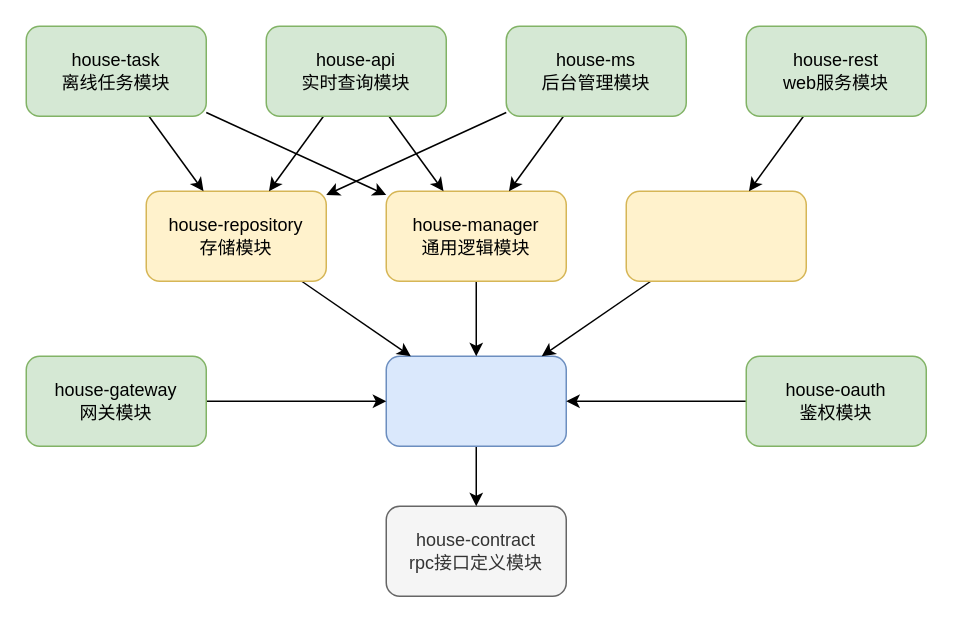
Some shapes in this 953 by 623 pixel diagram are drawn without their labels. Each missing label, with the centre of its shape:
"house- integration rpc适配模块" belongs at point (715, 235).
"house-common 基础模块" belongs at point (475, 400).
